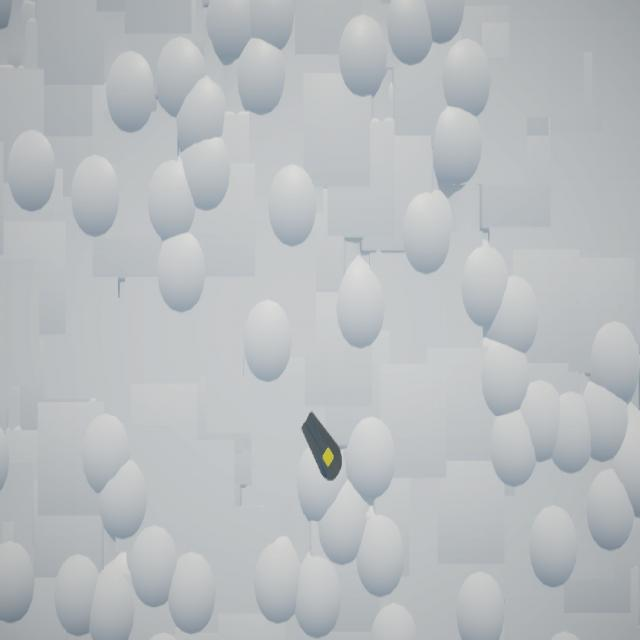handle_folk: (302, 411, 343, 482)
